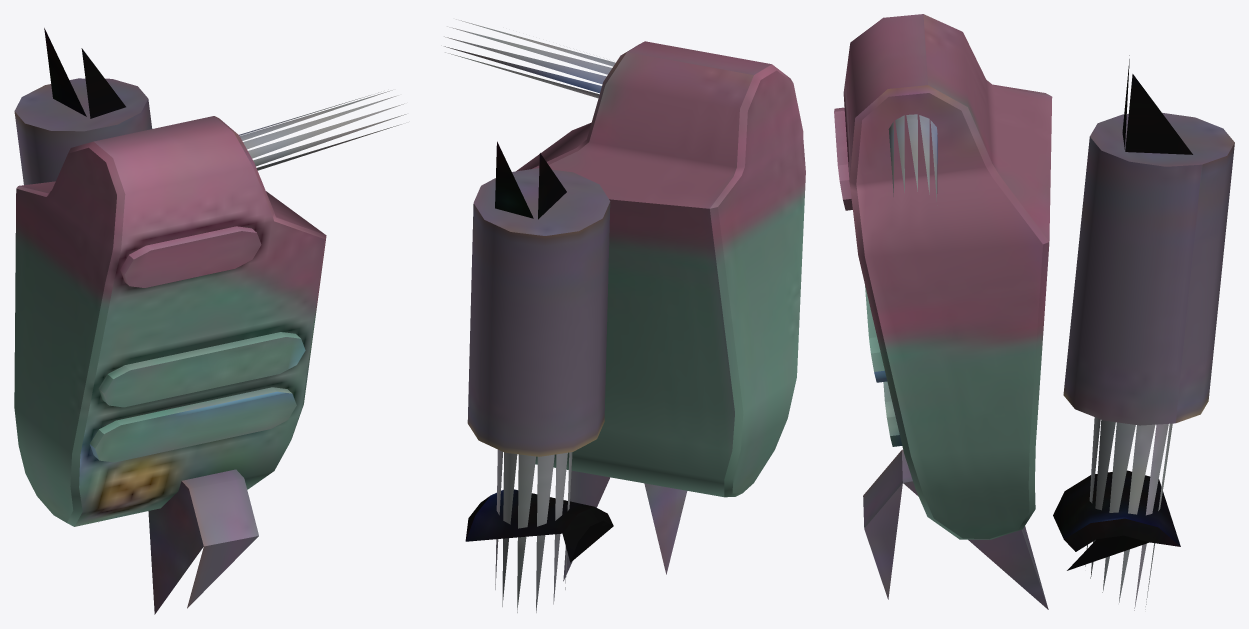
Rendered from j3ff_thigh_r.glb.
3 renders of one model, left to right at view 1: azimuth 30°, elevation 25°; view 2: azimuth 150°, elevation 25°; view 3: azimuth 270°, elevation 25°, orthographic. The views are drawn at different scales.
Parts seen in each view (by area): view 1: j3ff; view 2: j3ff; view 3: j3ff.
Part boxes in pixels (box(x1,y1,x2,y2)): j3ff: box(14, 28, 406, 614); j3ff: box(444, 19, 805, 612); j3ff: box(834, 14, 1234, 610).
Size of the model in its own units: 13.14 by 18.84 by 12.49.
Materials: 1 (1 with a texture image).
